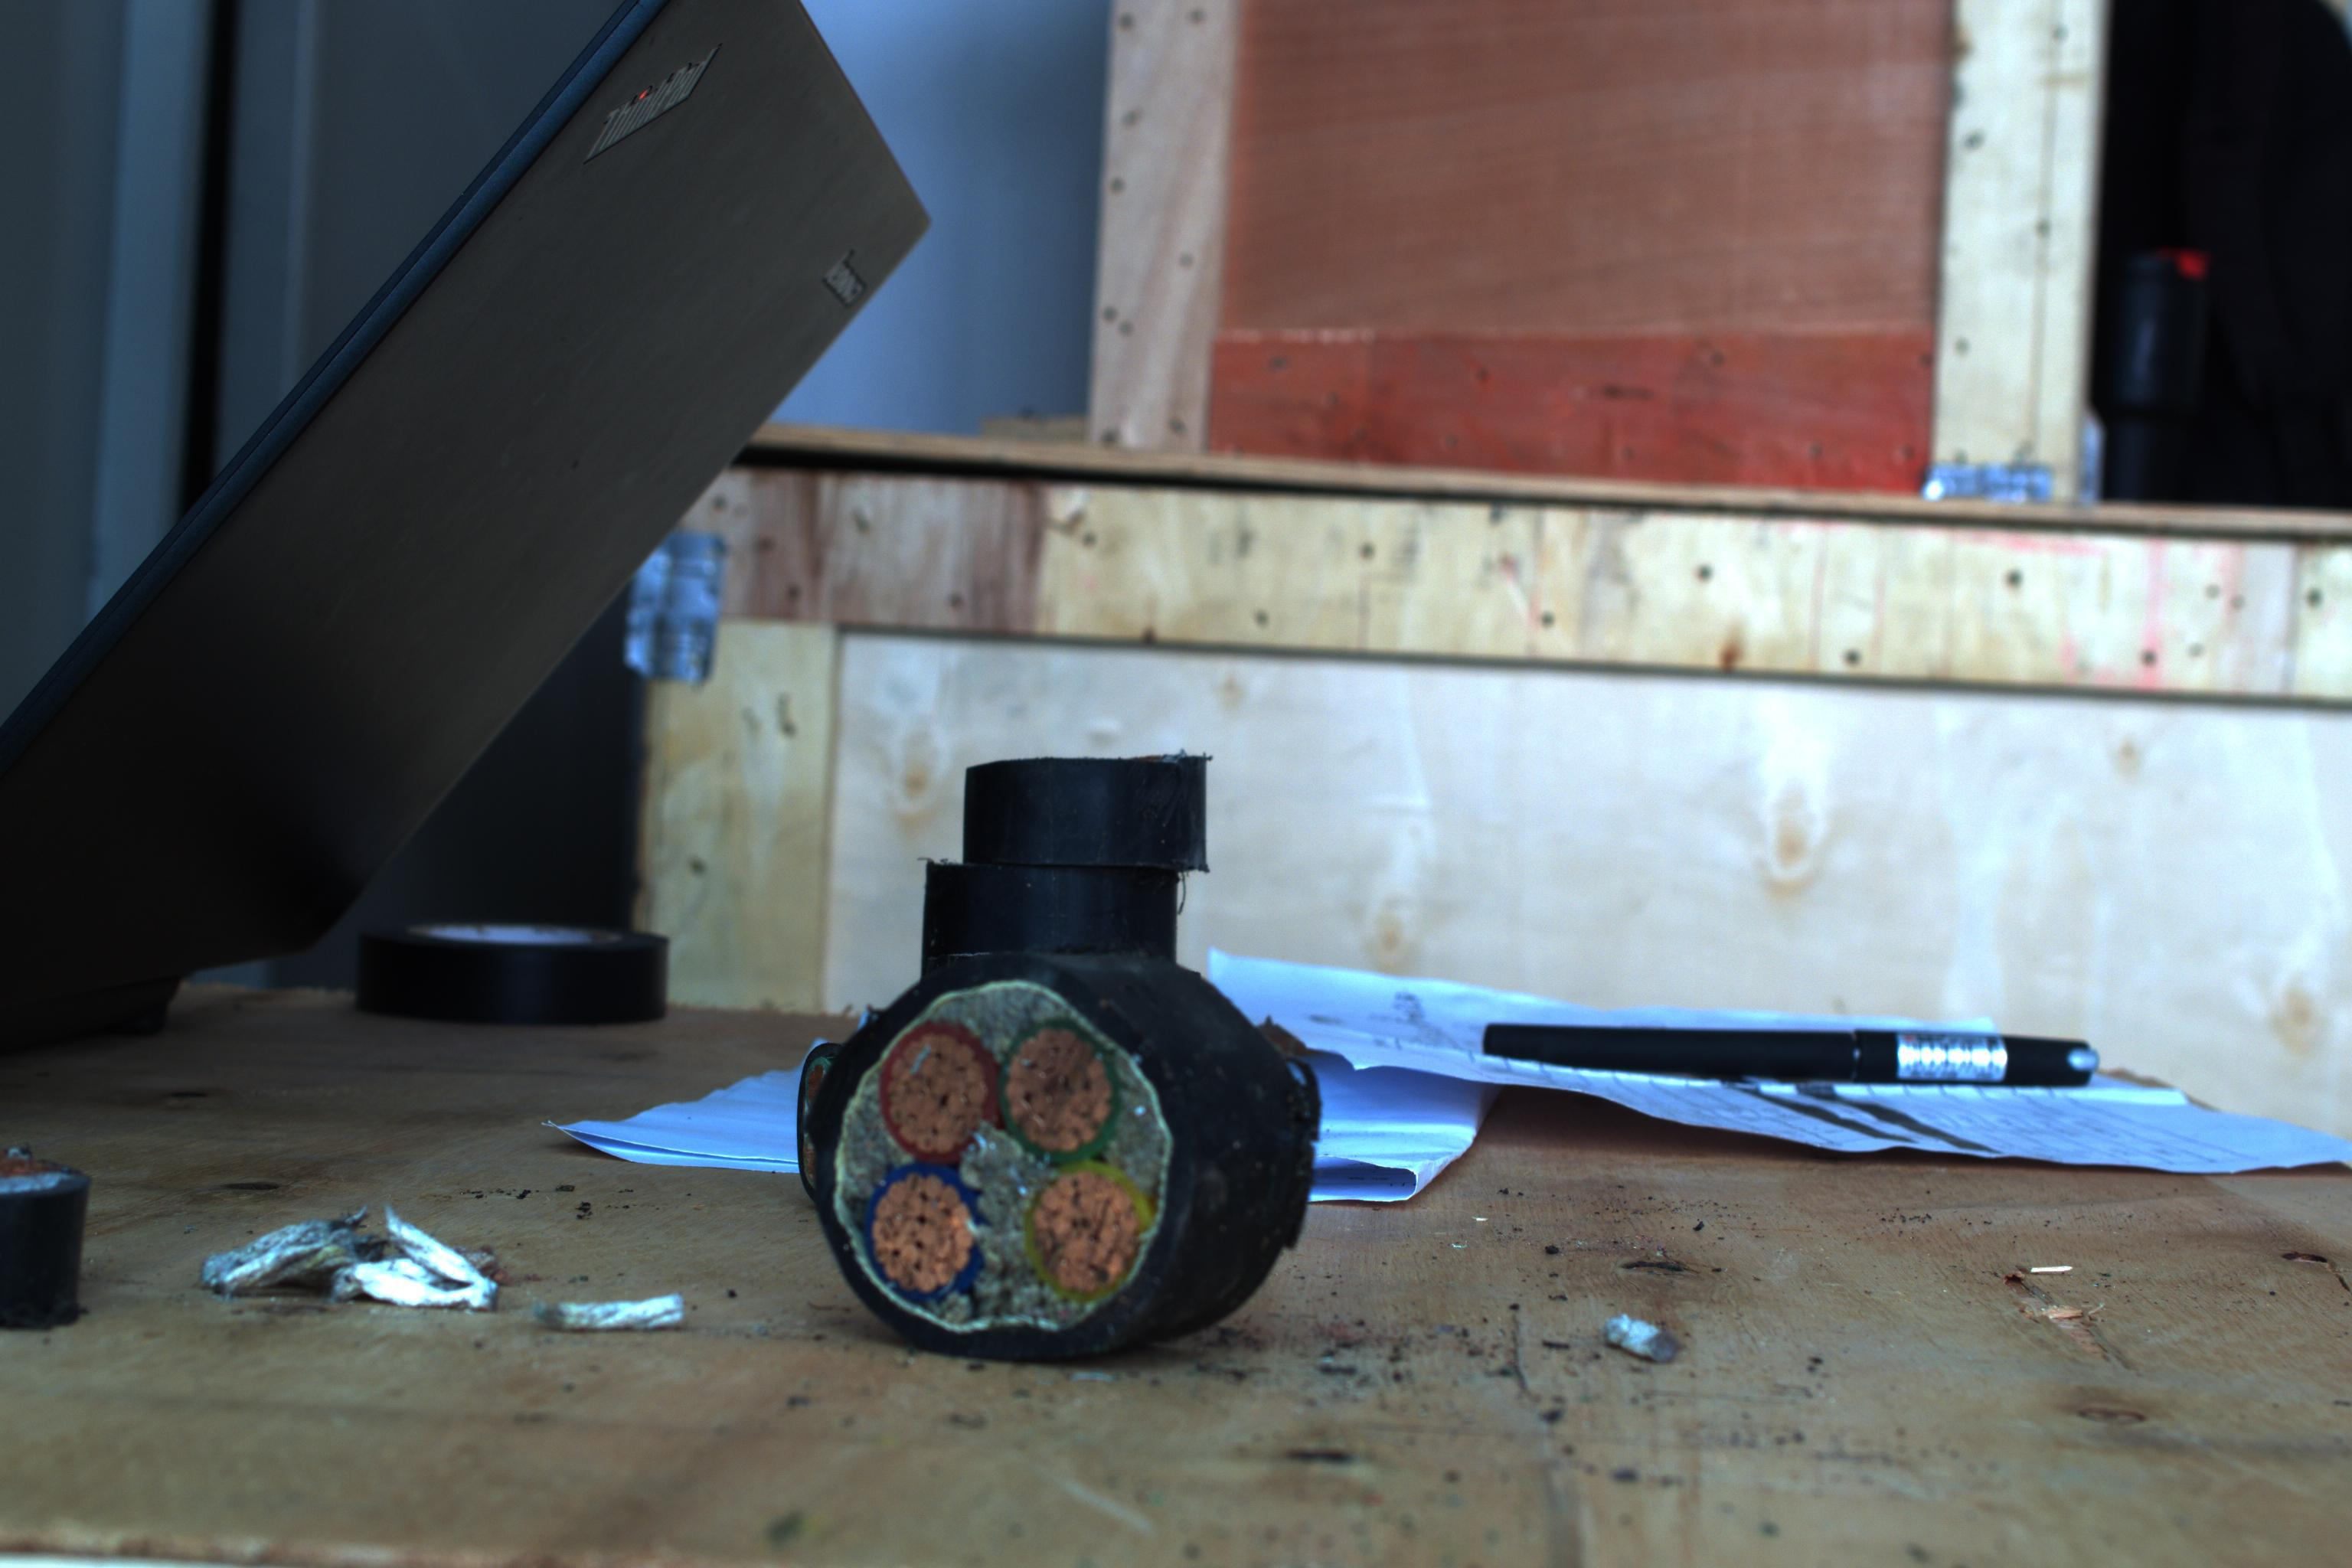YJV_0.6_1kV_4x120: (801, 929, 1190, 1339)
